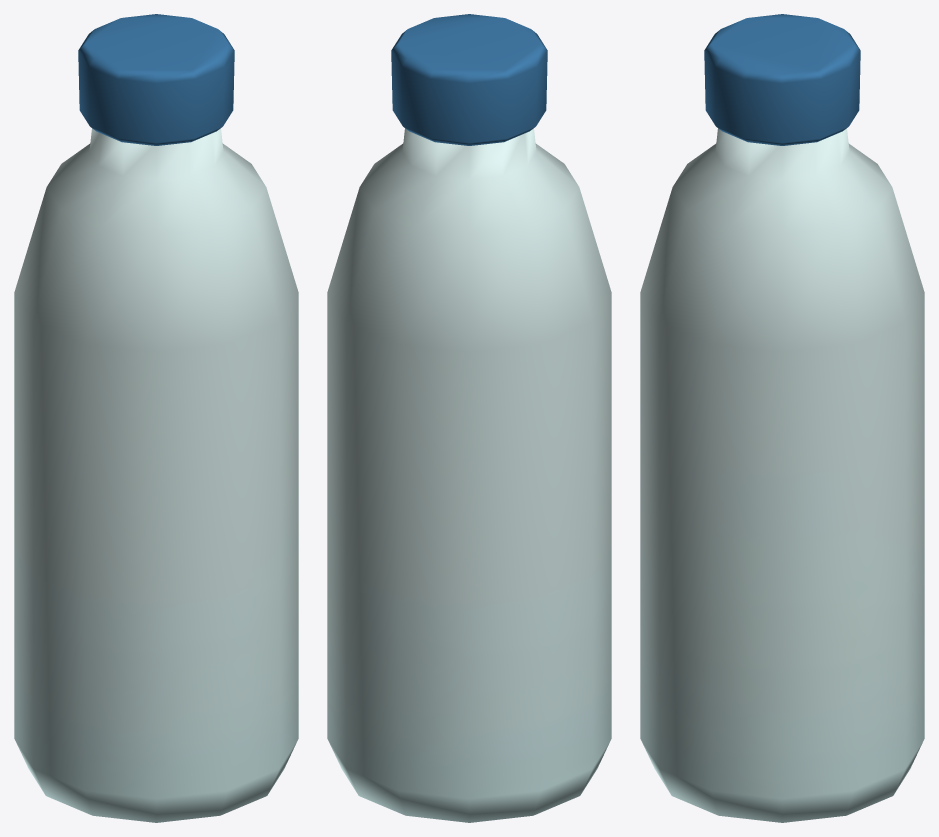
File: Water Bottle.fbx
The picture shows the model from 3 angles, left to right: view 1: azimuth 30°, elevation 25°; view 2: azimuth 150°, elevation 25°; view 3: azimuth 270°, elevation 25°; orthographic projection.
Visible parts, largest first — view 1: Water Bottle; view 2: Water Bottle; view 3: Water Bottle.
Part boxes in pixels (x1,y1,x2,y2): Water Bottle: (14,14,298,822); Water Bottle: (327,14,611,822); Water Bottle: (640,14,924,822).
Bounding box in the file's own units: 14.02 × 40.15 × 14.02.
